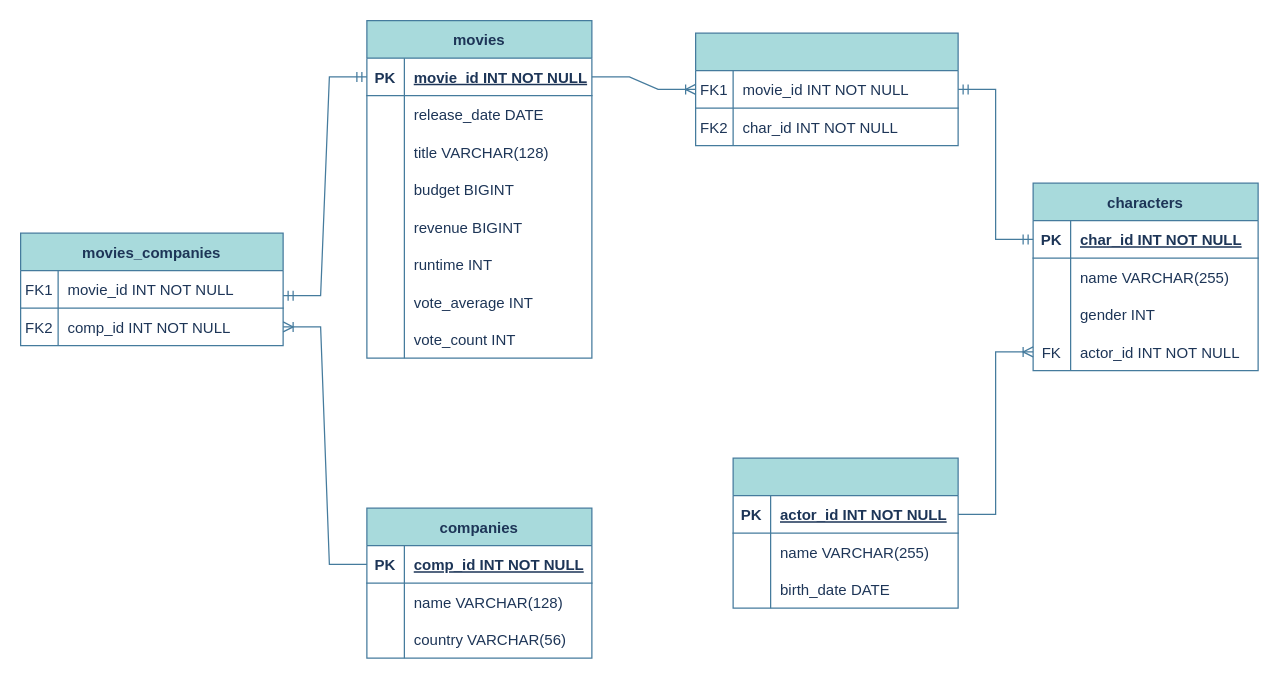
The diagram is 1279 pixels wide and 679 high, and some of its shapes have lost their labels. The box of each missing label's shape, as (x1, y1, x2, y2) in pixels:
actors: (732, 457, 958, 608)
movies_characters: (694, 32, 958, 146)
